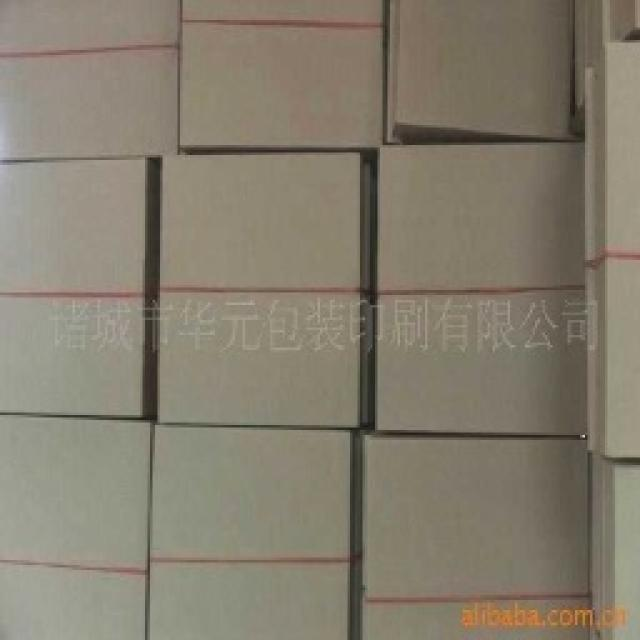box: (376, 142, 596, 442), (156, 156, 365, 432), (1, 158, 154, 420), (360, 434, 596, 598), (176, 0, 389, 149), (150, 418, 356, 562), (0, 2, 183, 156), (391, 0, 583, 138), (1, 420, 155, 573), (151, 563, 355, 640), (0, 560, 148, 640), (352, 599, 592, 640)
